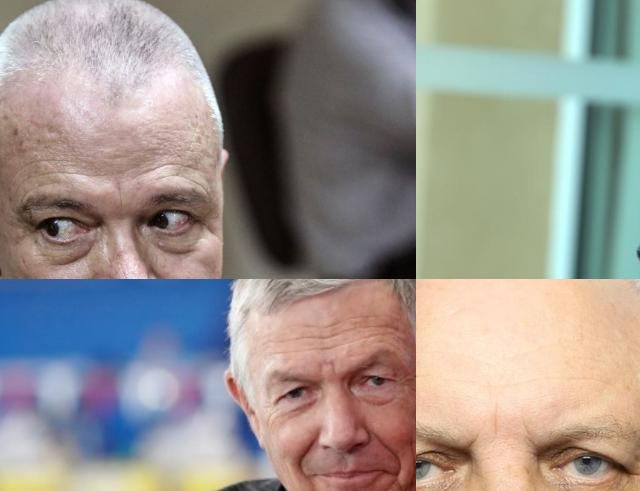chin: (381, 471, 404, 491), (307, 482, 320, 491)
crows_feet: (626, 454, 640, 491), (261, 396, 279, 424), (392, 373, 416, 392)
forehead: (151, 156, 203, 194), (13, 166, 81, 192), (354, 313, 401, 339), (307, 320, 343, 352)
frown_line: (486, 400, 502, 440), (113, 182, 127, 220), (315, 357, 339, 373)
gummy_smile: (294, 433, 320, 477), (375, 432, 405, 470)
masseter: (402, 435, 416, 480)
